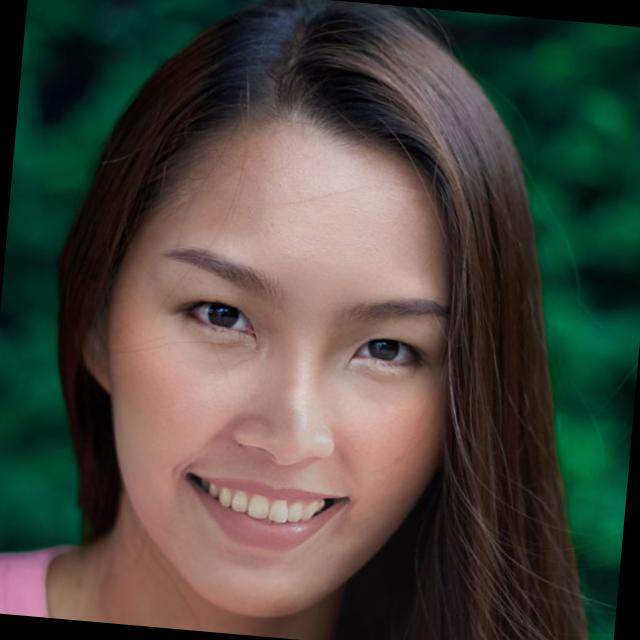face: (38, 0, 577, 640)
